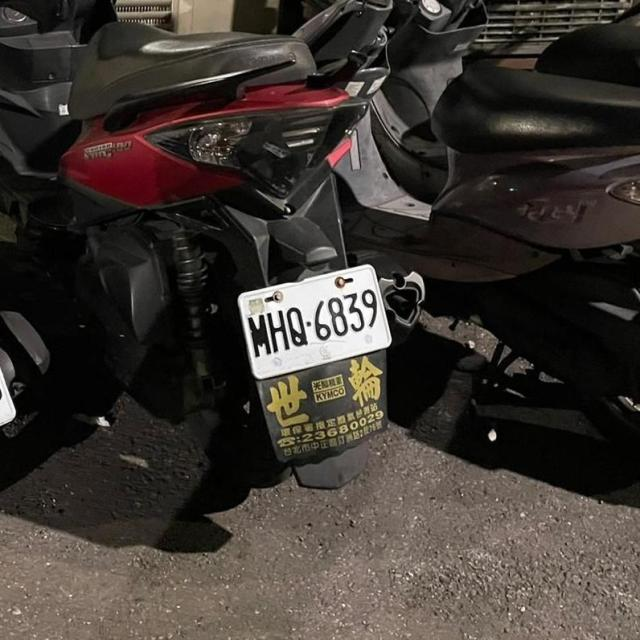W: (231, 253, 400, 386), (0, 356, 29, 458)
